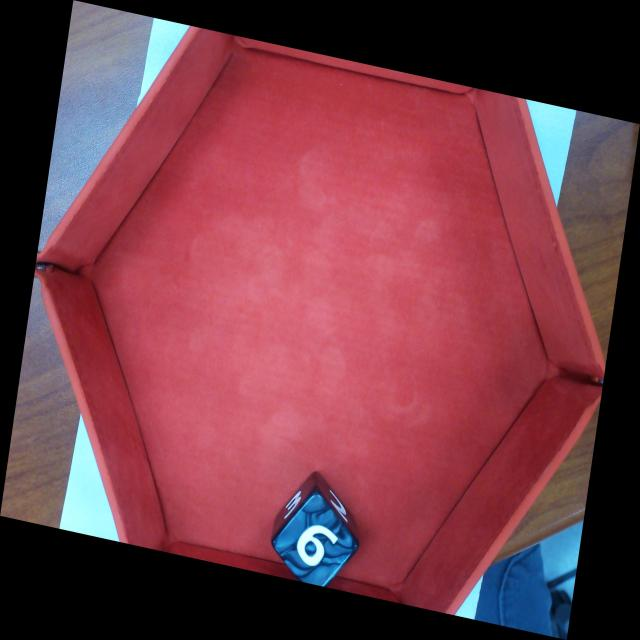dice: (272, 491, 360, 587)
